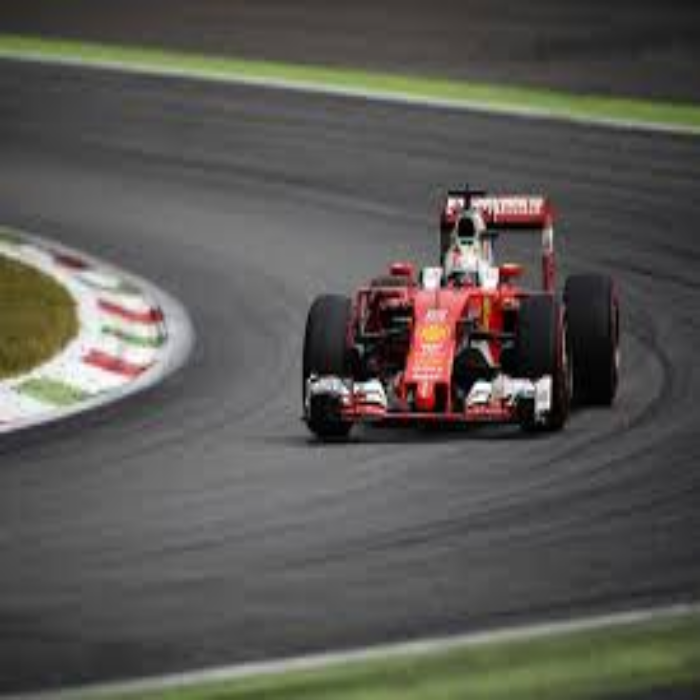f1_car: (295, 167, 658, 472)
